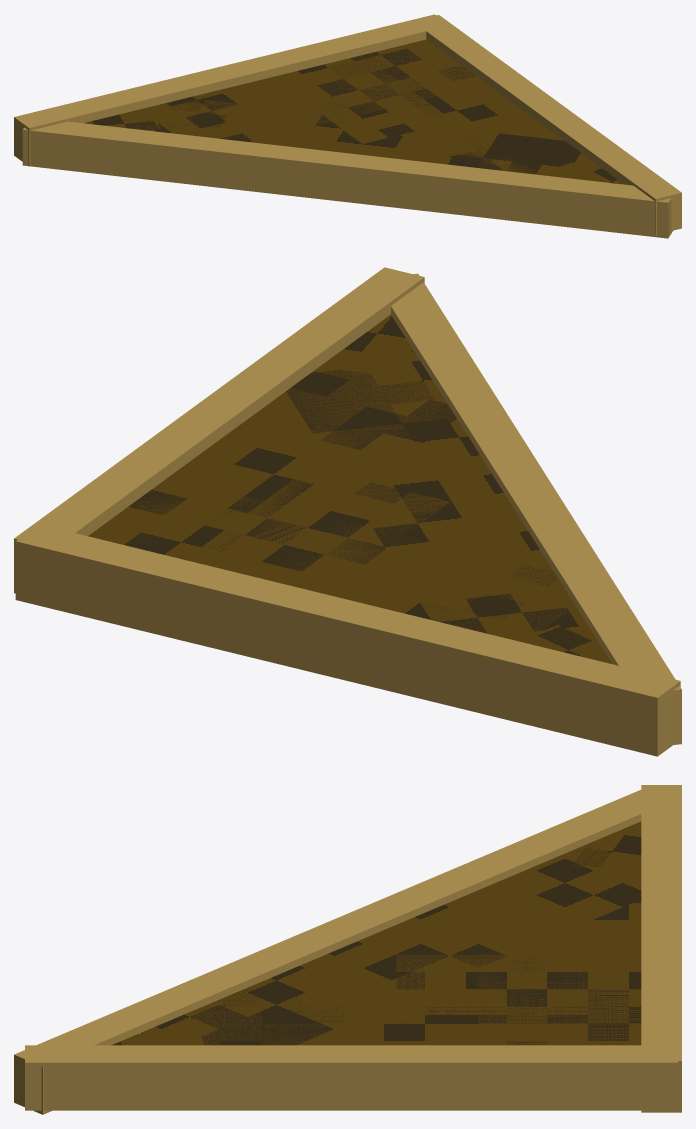
Rendered from triangleRaised.gltf.
3 views of the same model, one above another, from view 1: azimuth 30°, elevation 25°; view 2: azimuth 150°, elevation 25°; view 3: azimuth 270°, elevation 25° (orthographic). The views are drawn at different scales.
Parts seen in each view (by area): view 1: 101984cf-2e8b-ceb9-f8f6-283a15fae889, 1ea359e0-ed6f-1071-3fcf-c2c90e0423fe, 522bd1c5-c4a5-8ec9-b545-b19956a9cebc, 1317d90d-124f-79cd-8435-d04e90181d59, e15317d8-3ab5-c334-29b0-786b7138c37c, 6f10052e-bb80-6da4-2ed8-9e78e8305608, b1cd123b-e95a-b22c-11b3-b1e0f7417589, 592fde29-d749-6b02-3361-fa0340cff997, ca10e3a0-3b3e-a651-2142-bc16dfeb4a77; view 2: e15317d8-3ab5-c334-29b0-786b7138c37c, 1ea359e0-ed6f-1071-3fcf-c2c90e0423fe, 1317d90d-124f-79cd-8435-d04e90181d59, 101984cf-2e8b-ceb9-f8f6-283a15fae889, 6f10052e-bb80-6da4-2ed8-9e78e8305608, 522bd1c5-c4a5-8ec9-b545-b19956a9cebc, b1cd123b-e95a-b22c-11b3-b1e0f7417589, ca10e3a0-3b3e-a651-2142-bc16dfeb4a77, 592fde29-d749-6b02-3361-fa0340cff997; view 3: 6f10052e-bb80-6da4-2ed8-9e78e8305608, 1ea359e0-ed6f-1071-3fcf-c2c90e0423fe, 101984cf-2e8b-ceb9-f8f6-283a15fae889, 1317d90d-124f-79cd-8435-d04e90181d59, 522bd1c5-c4a5-8ec9-b545-b19956a9cebc, b1cd123b-e95a-b22c-11b3-b1e0f7417589, e15317d8-3ab5-c334-29b0-786b7138c37c, 592fde29-d749-6b02-3361-fa0340cff997, ca10e3a0-3b3e-a651-2142-bc16dfeb4a77.
Part boxes in pixels (x1,y1,x2,y2): 101984cf-2e8b-ceb9-f8f6-283a15fae889: (22,121,672,238); 1ea359e0-ed6f-1071-3fcf-c2c90e0423fe: (126,98,591,177); 522bd1c5-c4a5-8ec9-b545-b19956a9cebc: (140,42,486,141); 1317d90d-124f-79cd-8435-d04e90181d59: (324,39,563,174); e15317d8-3ab5-c334-29b0-786b7138c37c: (14,14,440,166); 6f10052e-bb80-6da4-2ed8-9e78e8305608: (413,15,681,234); b1cd123b-e95a-b22c-11b3-b1e0f7417589: (291,69,453,143); 592fde29-d749-6b02-3361-fa0340cff997: (84,108,160,130); ca10e3a0-3b3e-a651-2142-bc16dfeb4a77: (550,161,623,184); e15317d8-3ab5-c334-29b0-786b7138c37c: (15,524,680,756); 1ea359e0-ed6f-1071-3fcf-c2c90e0423fe: (286,351,599,647); 1317d90d-124f-79cd-8435-d04e90181d59: (88,361,456,574); 101984cf-2e8b-ceb9-f8f6-283a15fae889: (391,273,681,744); 6f10052e-bb80-6da4-2ed8-9e78e8305608: (14,267,424,593); 522bd1c5-c4a5-8ec9-b545-b19956a9cebc: (88,478,574,640); b1cd123b-e95a-b22c-11b3-b1e0f7417589: (201,467,449,580); ca10e3a0-3b3e-a651-2142-bc16dfeb4a77: (320,314,412,376); 592fde29-d749-6b02-3361-fa0340cff997: (517,625,612,664); 6f10052e-bb80-6da4-2ed8-9e78e8305608: (25,1045,677,1110); 1ea359e0-ed6f-1071-3fcf-c2c90e0423fe: (141,844,641,1045); 101984cf-2e8b-ceb9-f8f6-283a15fae889: (14,790,641,1114); 1317d90d-124f-79cd-8435-d04e90181d59: (192,989,641,1045); 522bd1c5-c4a5-8ec9-b545-b19956a9cebc: (478,899,641,1044); b1cd123b-e95a-b22c-11b3-b1e0f7417589: (396,954,587,1014); e15317d8-3ab5-c334-29b0-786b7138c37c: (641,785,681,1112); 592fde29-d749-6b02-3361-fa0340cff997: (572,821,641,874); ca10e3a0-3b3e-a651-2142-bc16dfeb4a77: (112,1029,204,1045).
Bounding box in the file's own units: 1.02 × 0.0875 × 1.02.
2 materials, 2 textured.
